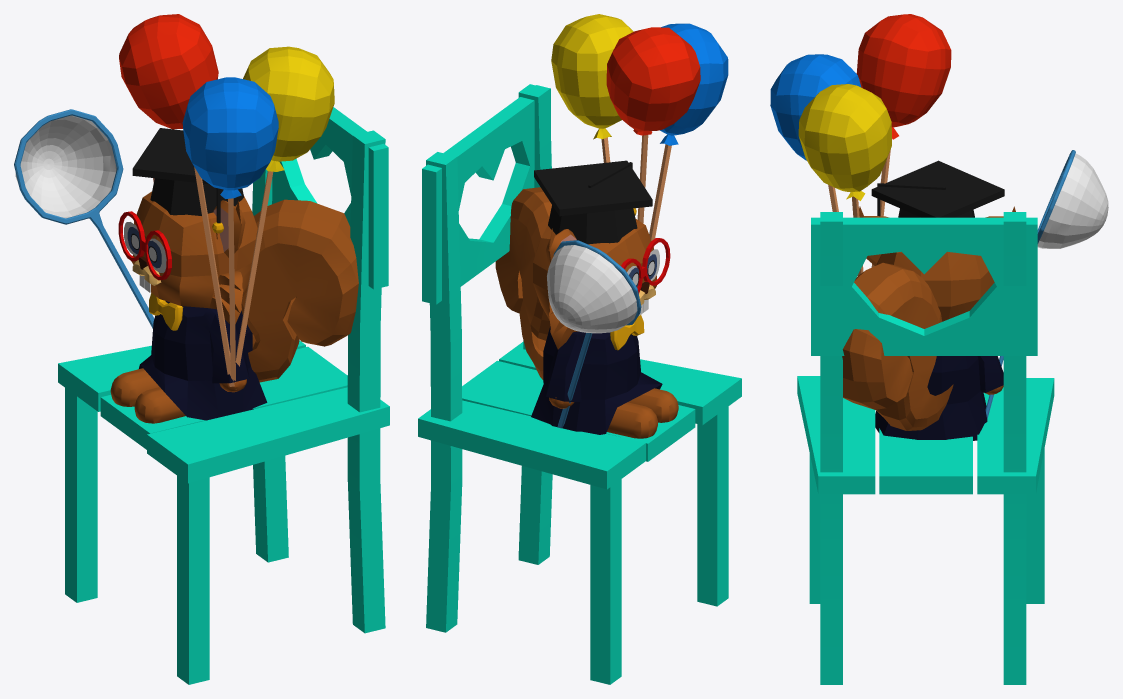
The model's file is SpatialUI_Balloon_Minigame.fbx.
The picture shows the model from 3 angles, left to right: view 1: azimuth 30°, elevation 25°; view 2: azimuth 150°, elevation 25°; view 3: azimuth 270°, elevation 25°; orthographic projection. The views are drawn at different scales.
Parts seen in each view (by area): view 1: polySurface221; view 2: polySurface221; view 3: polySurface221.
Boxes of the visible parts, box(x1,y1,x2,y2) form: polySurface221: box(14, 14, 389, 684); polySurface221: box(418, 14, 741, 684); polySurface221: box(770, 14, 1108, 684).
Bounding box in the file's own units: 1.19 × 2.86 × 1.49.
